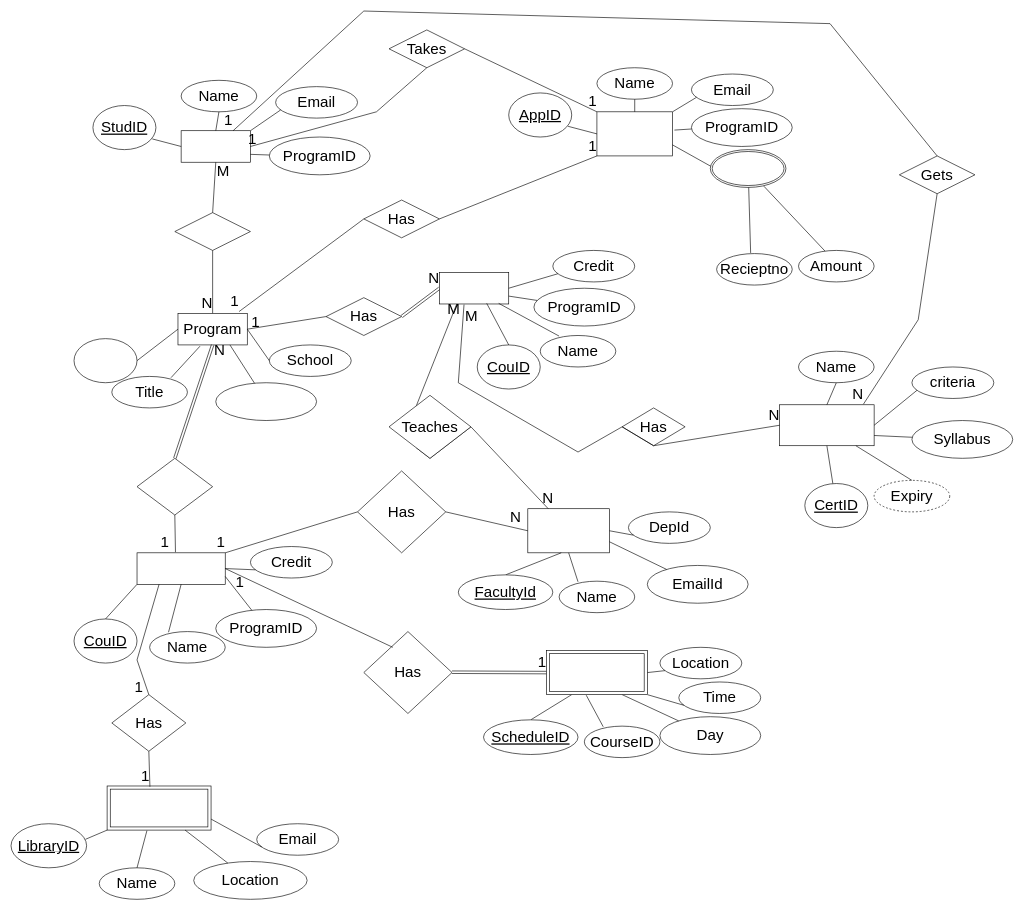
The diagram is 1024 pixels wide and 910 high, and some of its shapes have lost their labels. The centre of each missing label's shape, as x and y in pixels:
"Admission" goes at point (634, 133).
"Certification" goes at point (826, 425).
"Courses" goes at point (474, 288).
"Department" goes at point (180, 568).
"Descrip" goes at point (266, 401).
"Erolls" goes at point (212, 231).
"Faculty" goes at point (568, 530).
"Fee" goes at point (748, 168).
"Libraries" goes at point (158, 807).
"Offer" goes at point (174, 486).
"ProgID" goes at point (105, 360).
"Schedule" goes at point (596, 672).
"Student" goes at point (215, 146).
